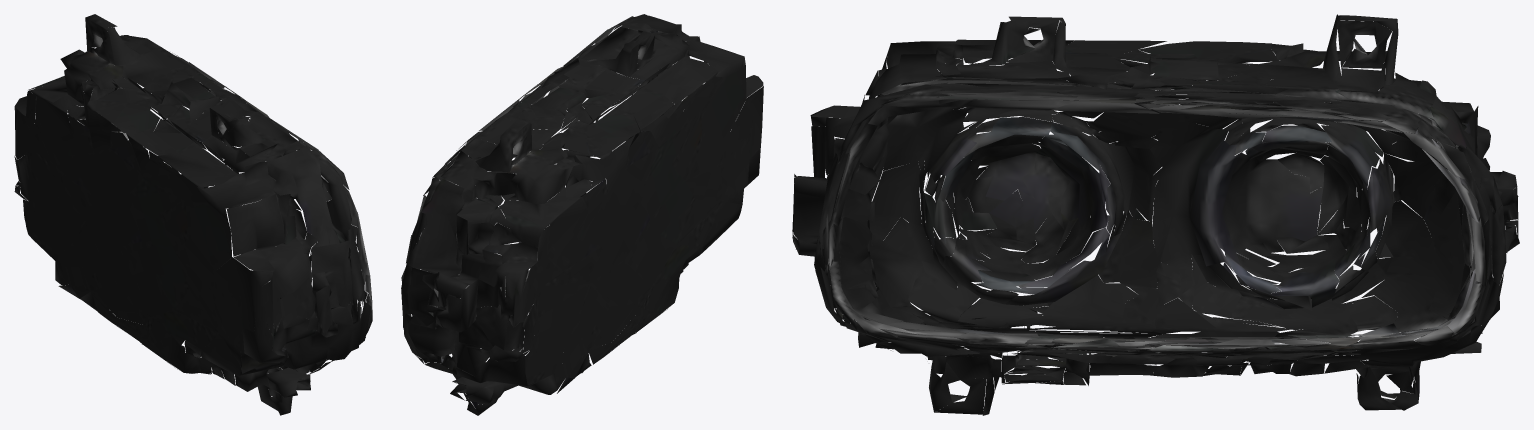
Rendered from golfik_headlight.glb.
3 renders of one model, left to right at view 1: azimuth 30°, elevation 25°; view 2: azimuth 150°, elevation 25°; view 3: azimuth 270°, elevation 25°, orthographic. The views are drawn at different scales.
Visible parts, largest first — view 1: tripo_node_4281c36a-2b7a-4c9b-a3a9-ed6a6ee2bd07; view 2: tripo_node_4281c36a-2b7a-4c9b-a3a9-ed6a6ee2bd07; view 3: tripo_node_4281c36a-2b7a-4c9b-a3a9-ed6a6ee2bd07.
Boxes of the visible parts, x1=… form: tripo_node_4281c36a-2b7a-4c9b-a3a9-ed6a6ee2bd07: x1=14, y1=14, x2=372, y2=415; tripo_node_4281c36a-2b7a-4c9b-a3a9-ed6a6ee2bd07: x1=401, y1=14, x2=763, y2=415; tripo_node_4281c36a-2b7a-4c9b-a3a9-ed6a6ee2bd07: x1=792, y1=14, x2=1519, y2=415.
Bounding box in the file's own units: 0.2682 × 0.579 × 1.
1 material, 1 textured.
